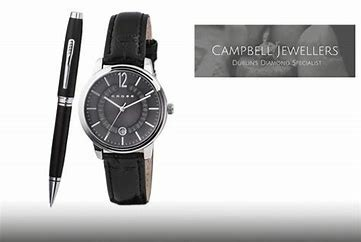pen: (44, 12, 85, 208)
